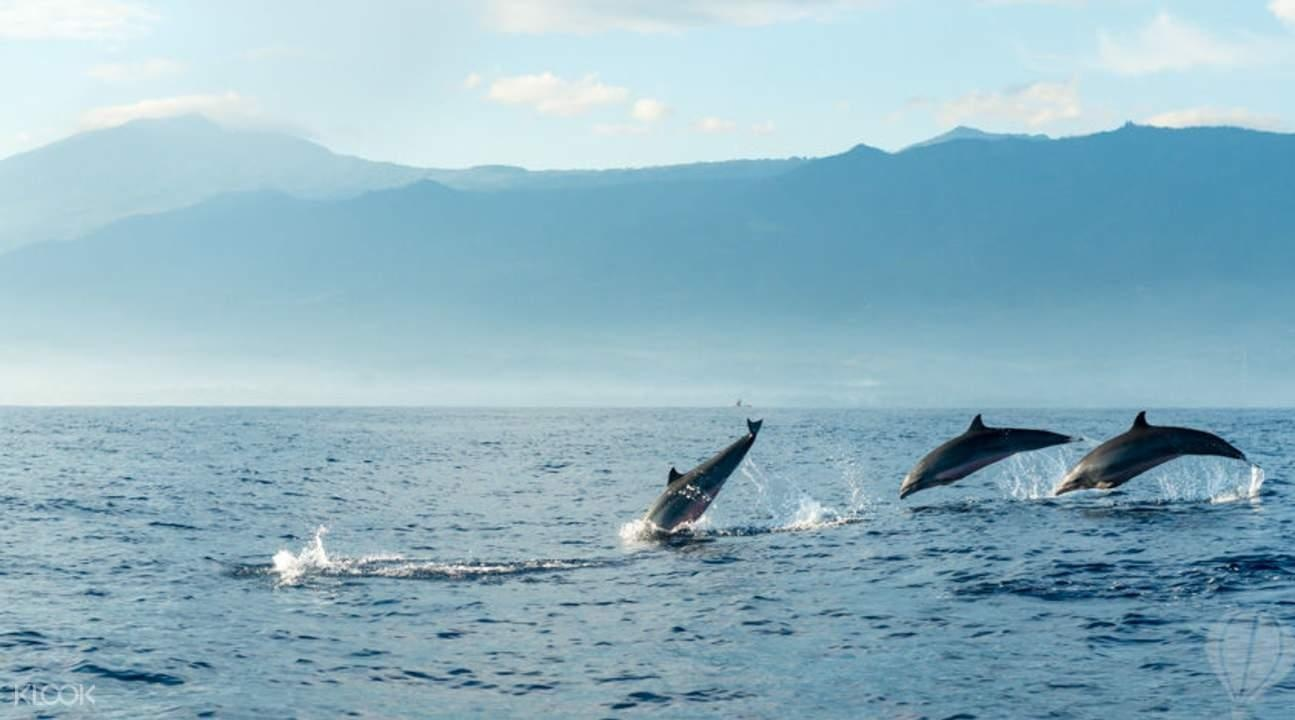fish: (626, 416, 778, 545), (1051, 412, 1255, 500), (891, 413, 1088, 504)
